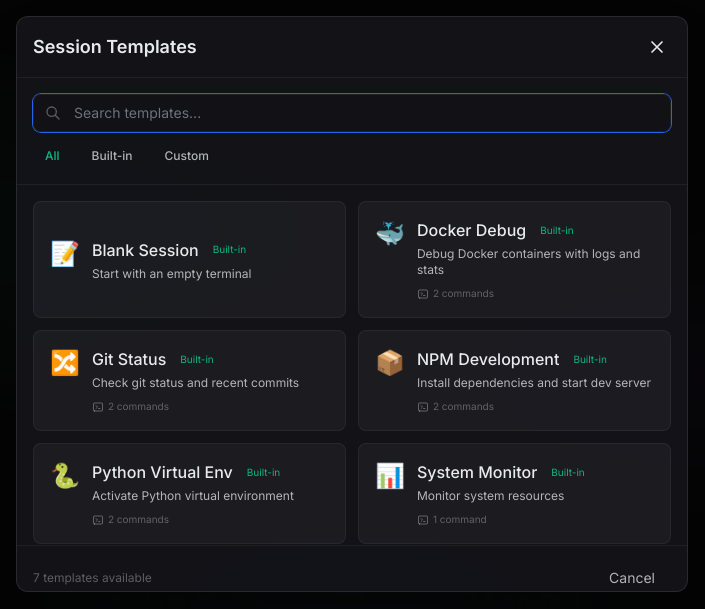
SessionTemplateModal › should show "No templates found" when no matches
Type "nonexistent template xyz" into the field with placeholder "Search templates..." at (352, 113), box [33,94,671,132]
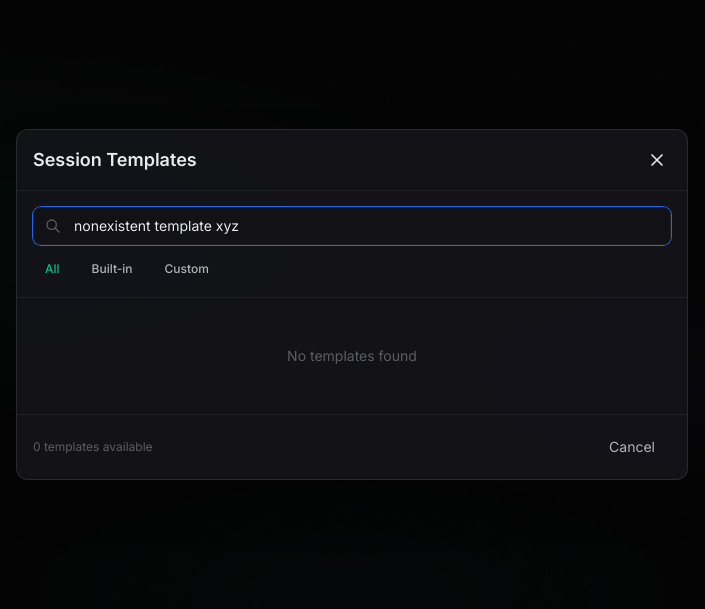
Expected: the text "No templates found" is shown, [287,346,417,364]
